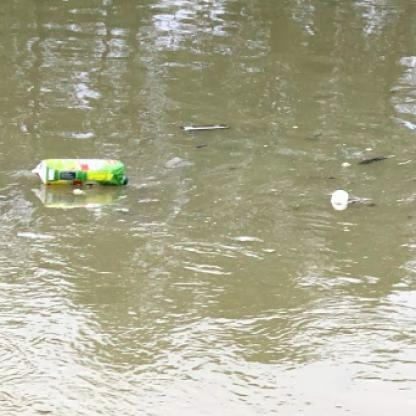Trash: (30, 155, 131, 189)
